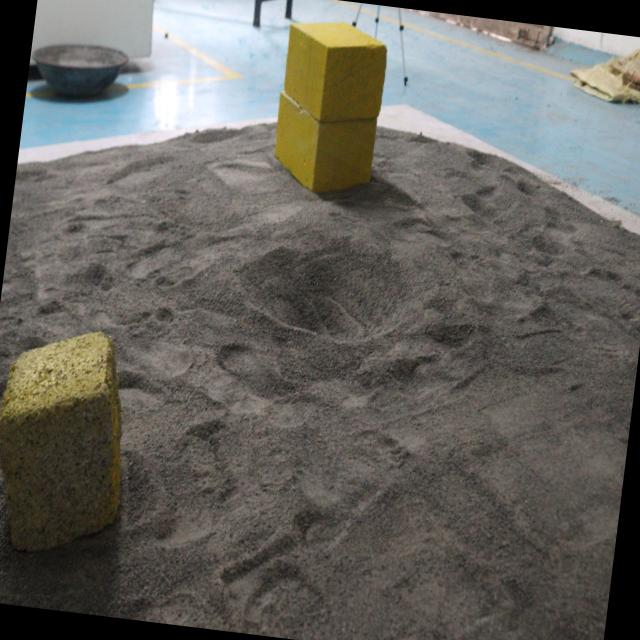box: (0, 317, 140, 572), (259, 6, 393, 211)
crater: (220, 213, 443, 369)
